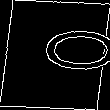O_W: (9, 32, 101, 78)
